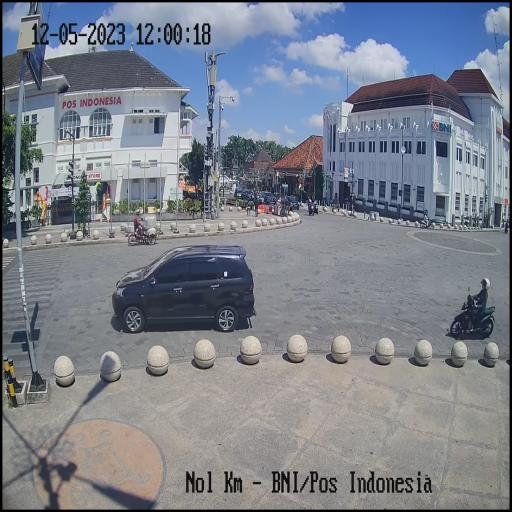mobil: (109, 245, 255, 334)
motor: (450, 285, 495, 341)
